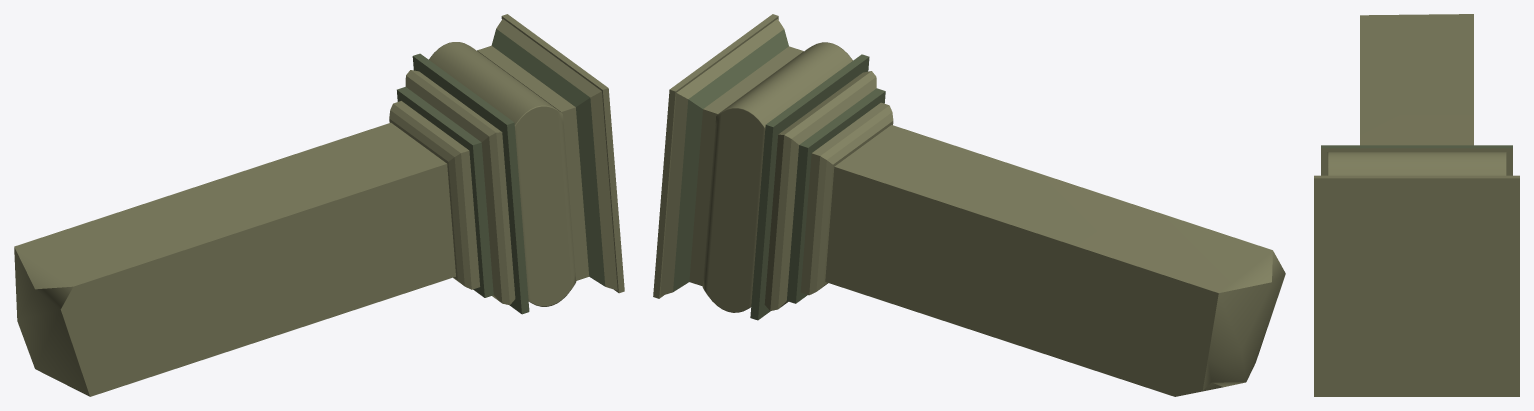
Rendered from ruineColumn01half2.fbx.
3 views of the same model, side by side, from view 1: azimuth 30°, elevation 25°; view 2: azimuth 150°, elevation 25°; view 3: azimuth 270°, elevation 25° (orthographic). The views are drawn at different scales.
Visible parts, largest first — view 1: ruineColumn01half2; view 2: ruineColumn01half2; view 3: ruineColumn01half2.
Part boxes in pixels (bbox=[...]): ruineColumn01half2: bbox=[14, 14, 624, 396]; ruineColumn01half2: bbox=[653, 14, 1285, 396]; ruineColumn01half2: bbox=[1314, 14, 1519, 396].
Size of the model in its own units: 3.1 by 1.14 by 0.9918.
